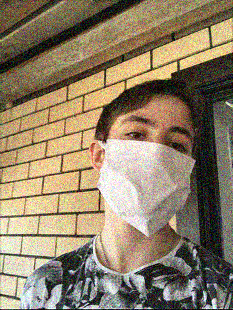with_mask: (96, 111, 196, 238)
